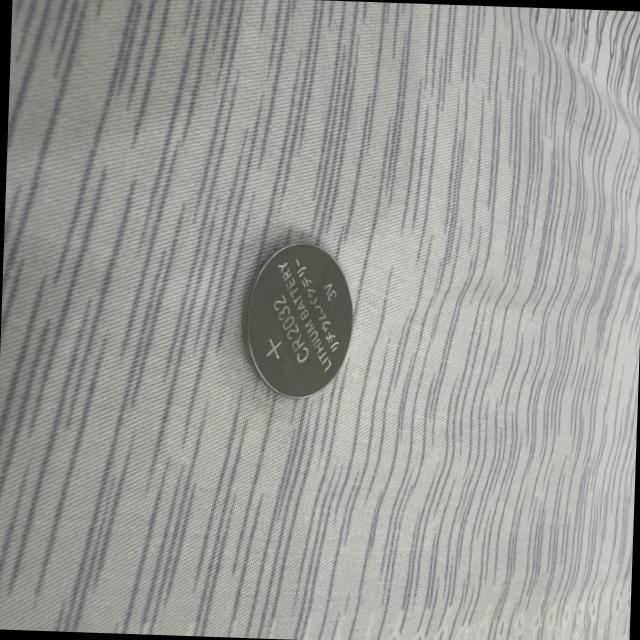COIN: (237, 240, 358, 404)
